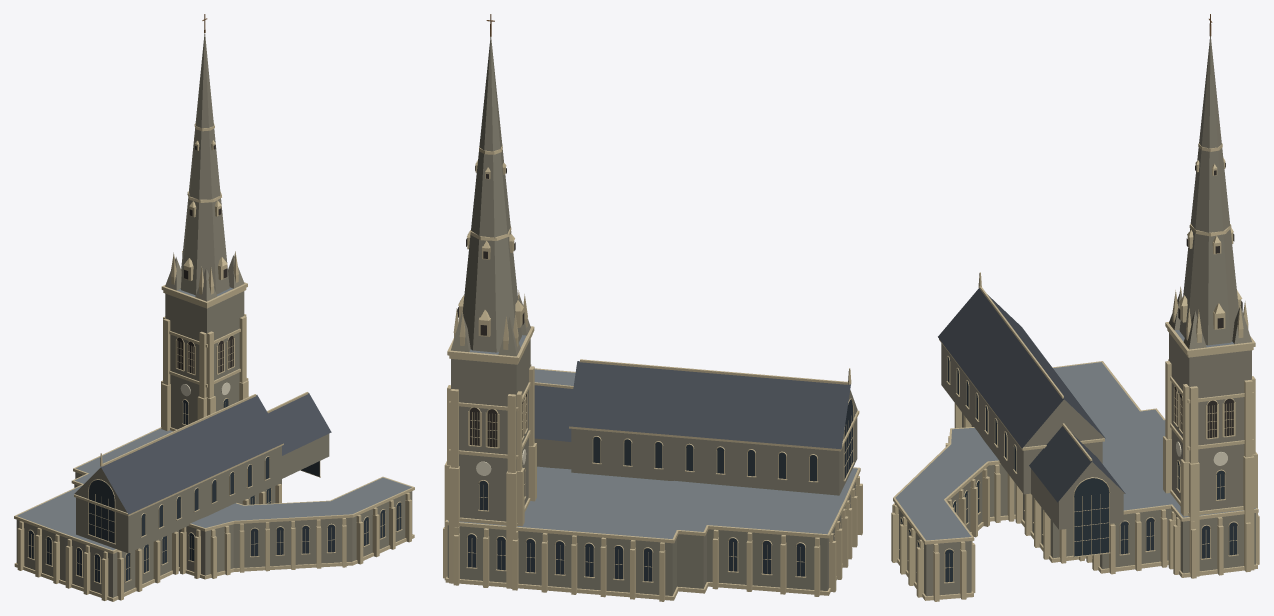
Rendered from st_mary_abbots.glb.
3 renders of one model, left to right at view 1: azimuth 30°, elevation 25°; view 2: azimuth 150°, elevation 25°; view 3: azimuth 270°, elevation 25°, orthographic. The views are drawn at different scales.
Bounding box in the file's own units: 64.1 × 86.92 × 53.22.
